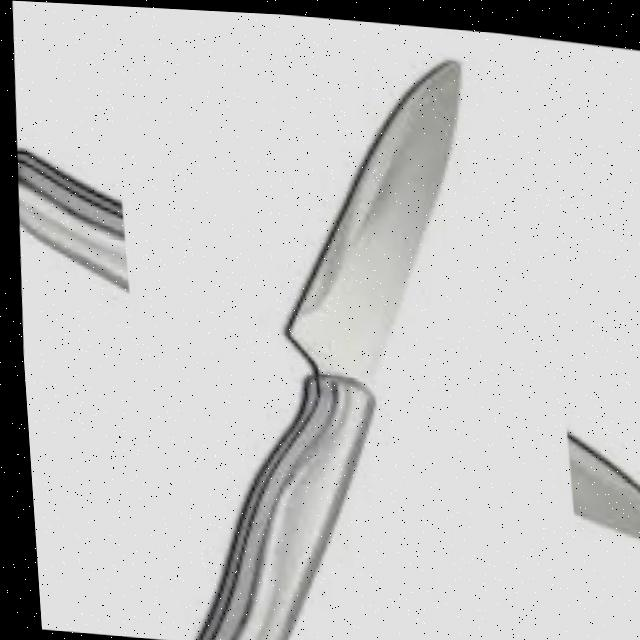knife: (143, 26, 492, 640)
